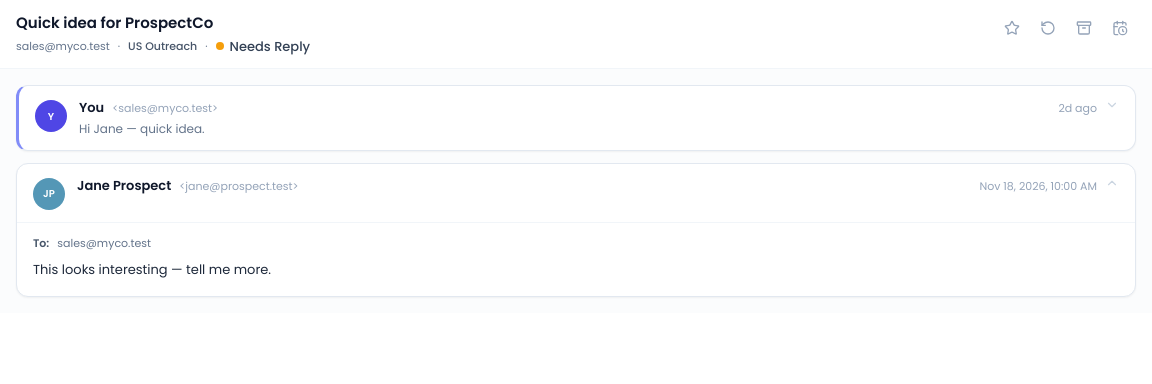
Test: ThreadView — mailbox (not chat) rendering › collapses earlier messages to a one-line preview and expands on click
Check: the text "Are you free Thursday" is not shown
Click the button with aria-label "Expand message": {"x": 51, "y": 116} left=19, top=86, right=1135, bottom=150
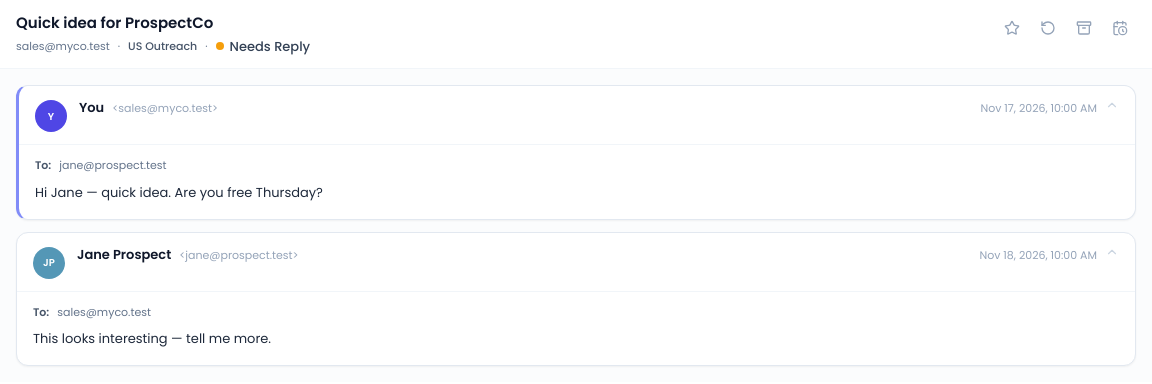
Check: the text "Hi Jane — quick idea. Are you free Thursday?" is shown, box left=35, top=182, right=323, bottom=202
Check: the button with aria-label "Collapse message from You" is shown, box left=19, top=86, right=1135, bottom=144
